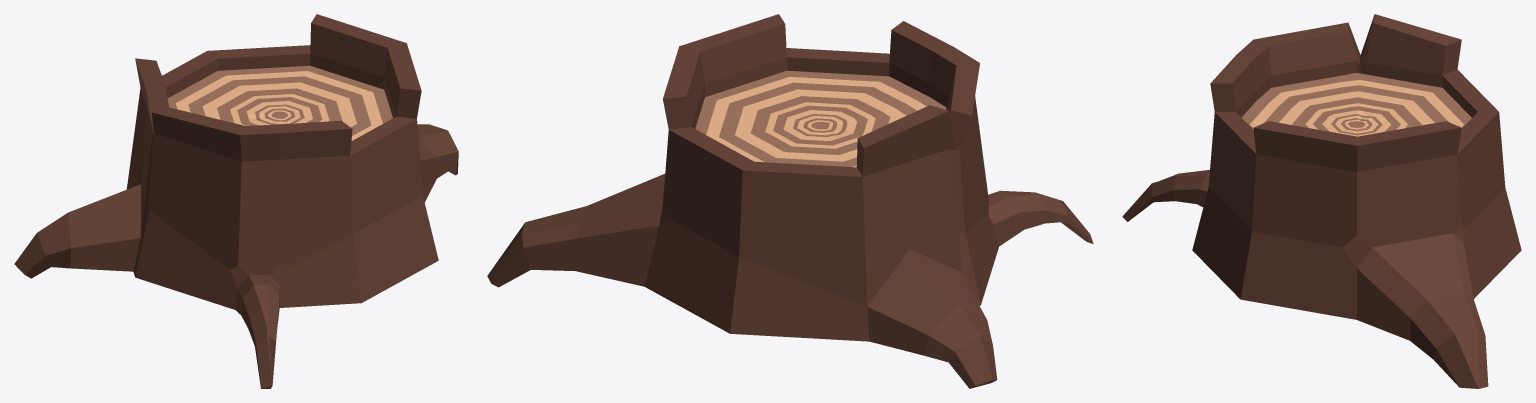
Rendered from LogVertical.fbx.
The picture shows the model from 3 angles, left to right: view 1: azimuth 30°, elevation 25°; view 2: azimuth 150°, elevation 25°; view 3: azimuth 270°, elevation 25°; orthographic projection. The views are drawn at different scales.
Visible parts, largest first — view 1: Circle; view 2: Circle; view 3: Circle.
Part boxes in pixels (box(x1,y1,x2,y2)): Circle: box(14, 14, 458, 388); Circle: box(487, 14, 1093, 388); Circle: box(1122, 14, 1521, 388).
Size of the model in its own units: 326 by 145 by 252.
